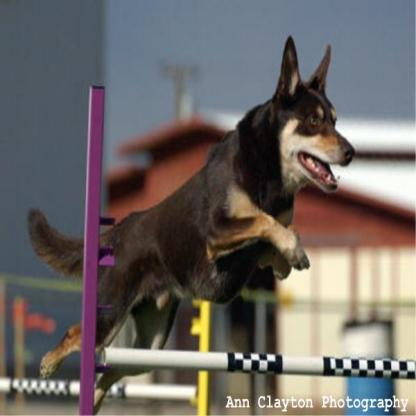kelpie: (25, 33, 356, 379)
